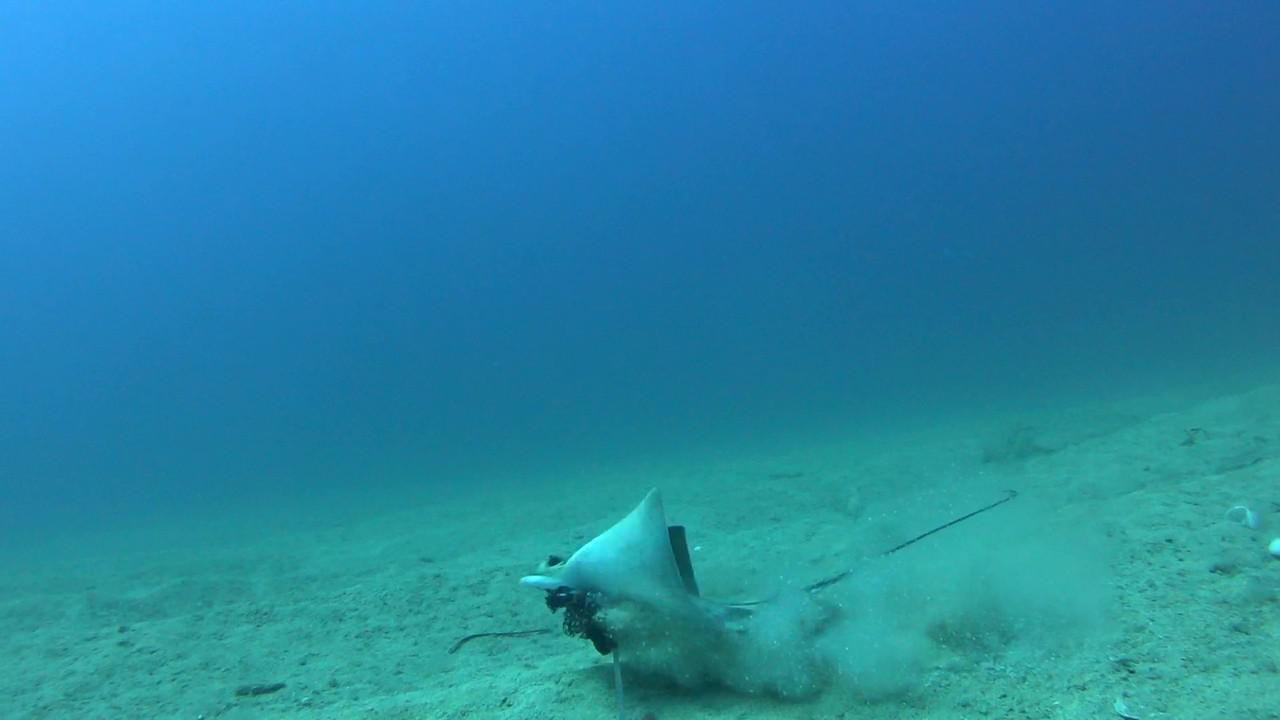myliobatis: (476, 459, 1079, 650)
